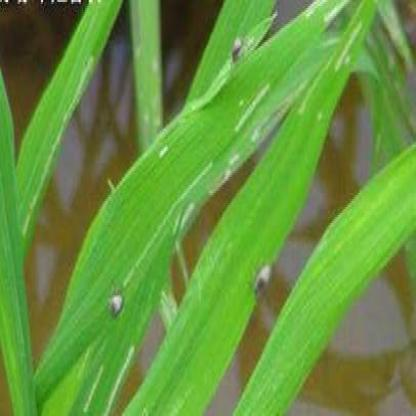rice-bug: (252, 260, 272, 294), (109, 284, 124, 318), (230, 30, 246, 61)
